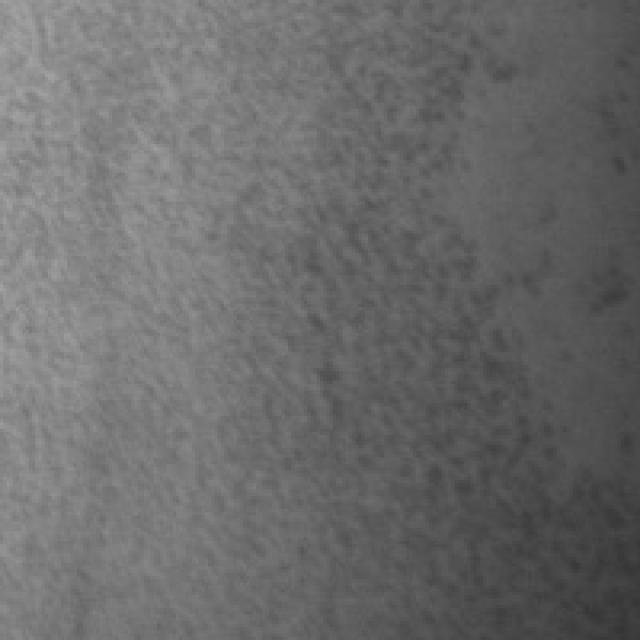pitted_surface: (230, 3, 589, 576)
